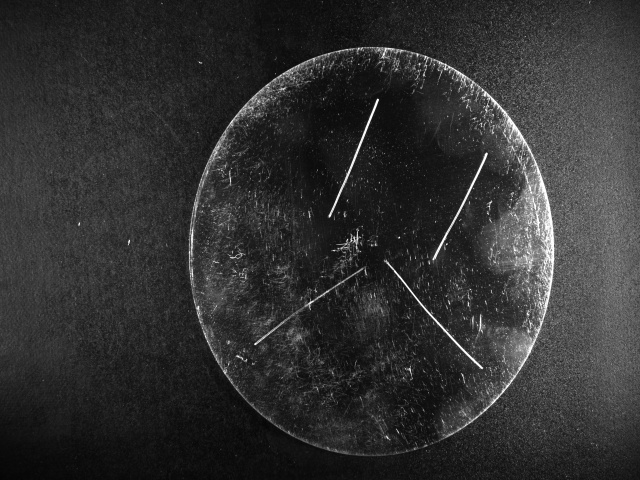ca_shang: (381, 255, 483, 371), (247, 263, 368, 346), (429, 147, 494, 269), (323, 100, 381, 218)
